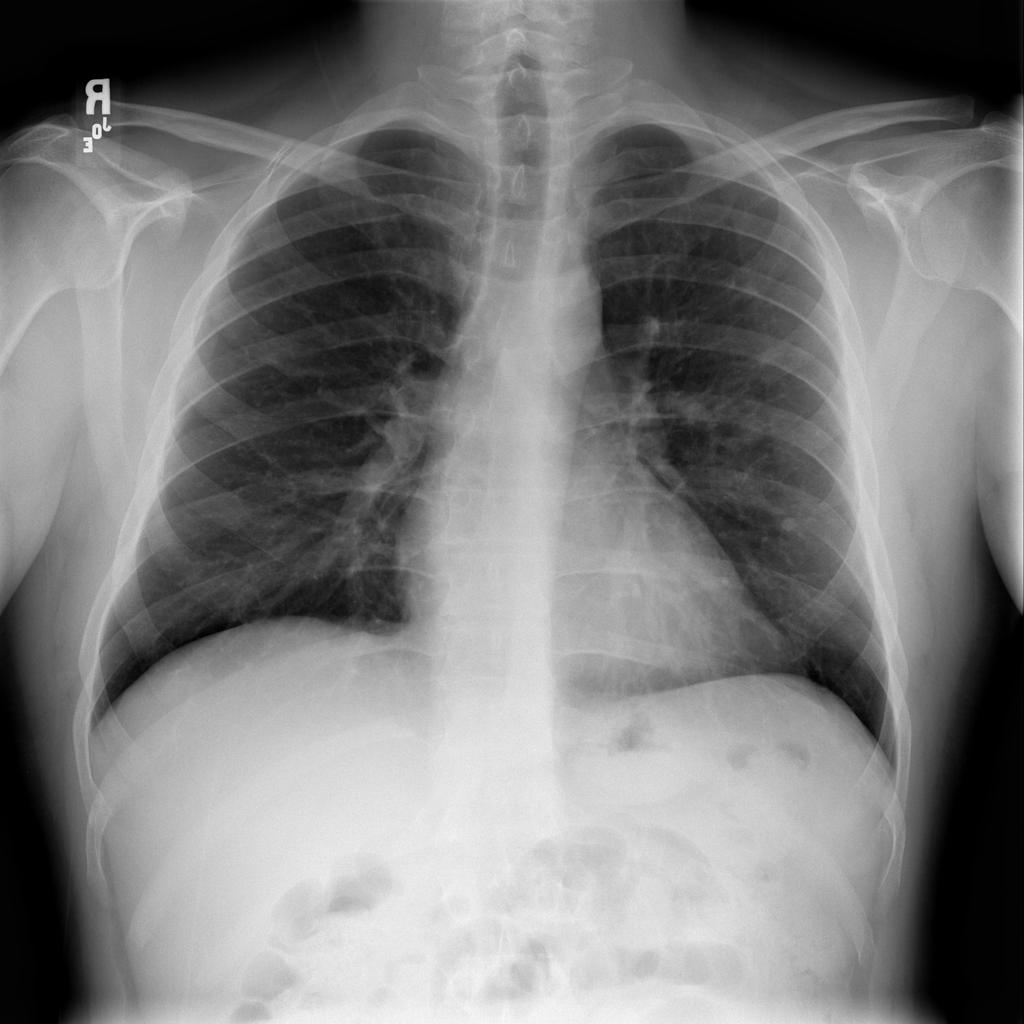nodule: (763, 502, 817, 550)
